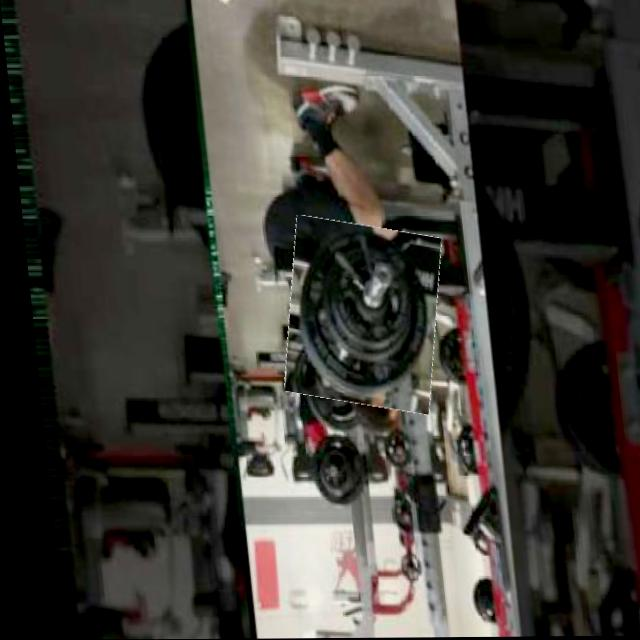barbell: (270, 221, 444, 412)
